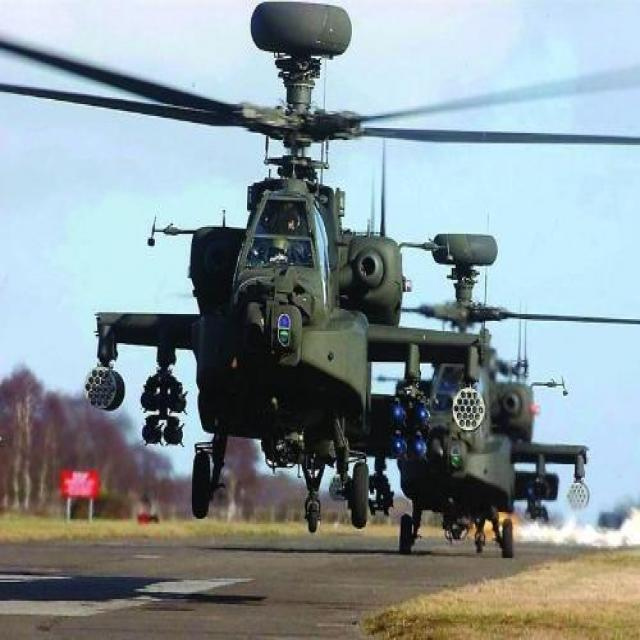MIL_HELO: (0, 0, 640, 547), (321, 220, 638, 553)
